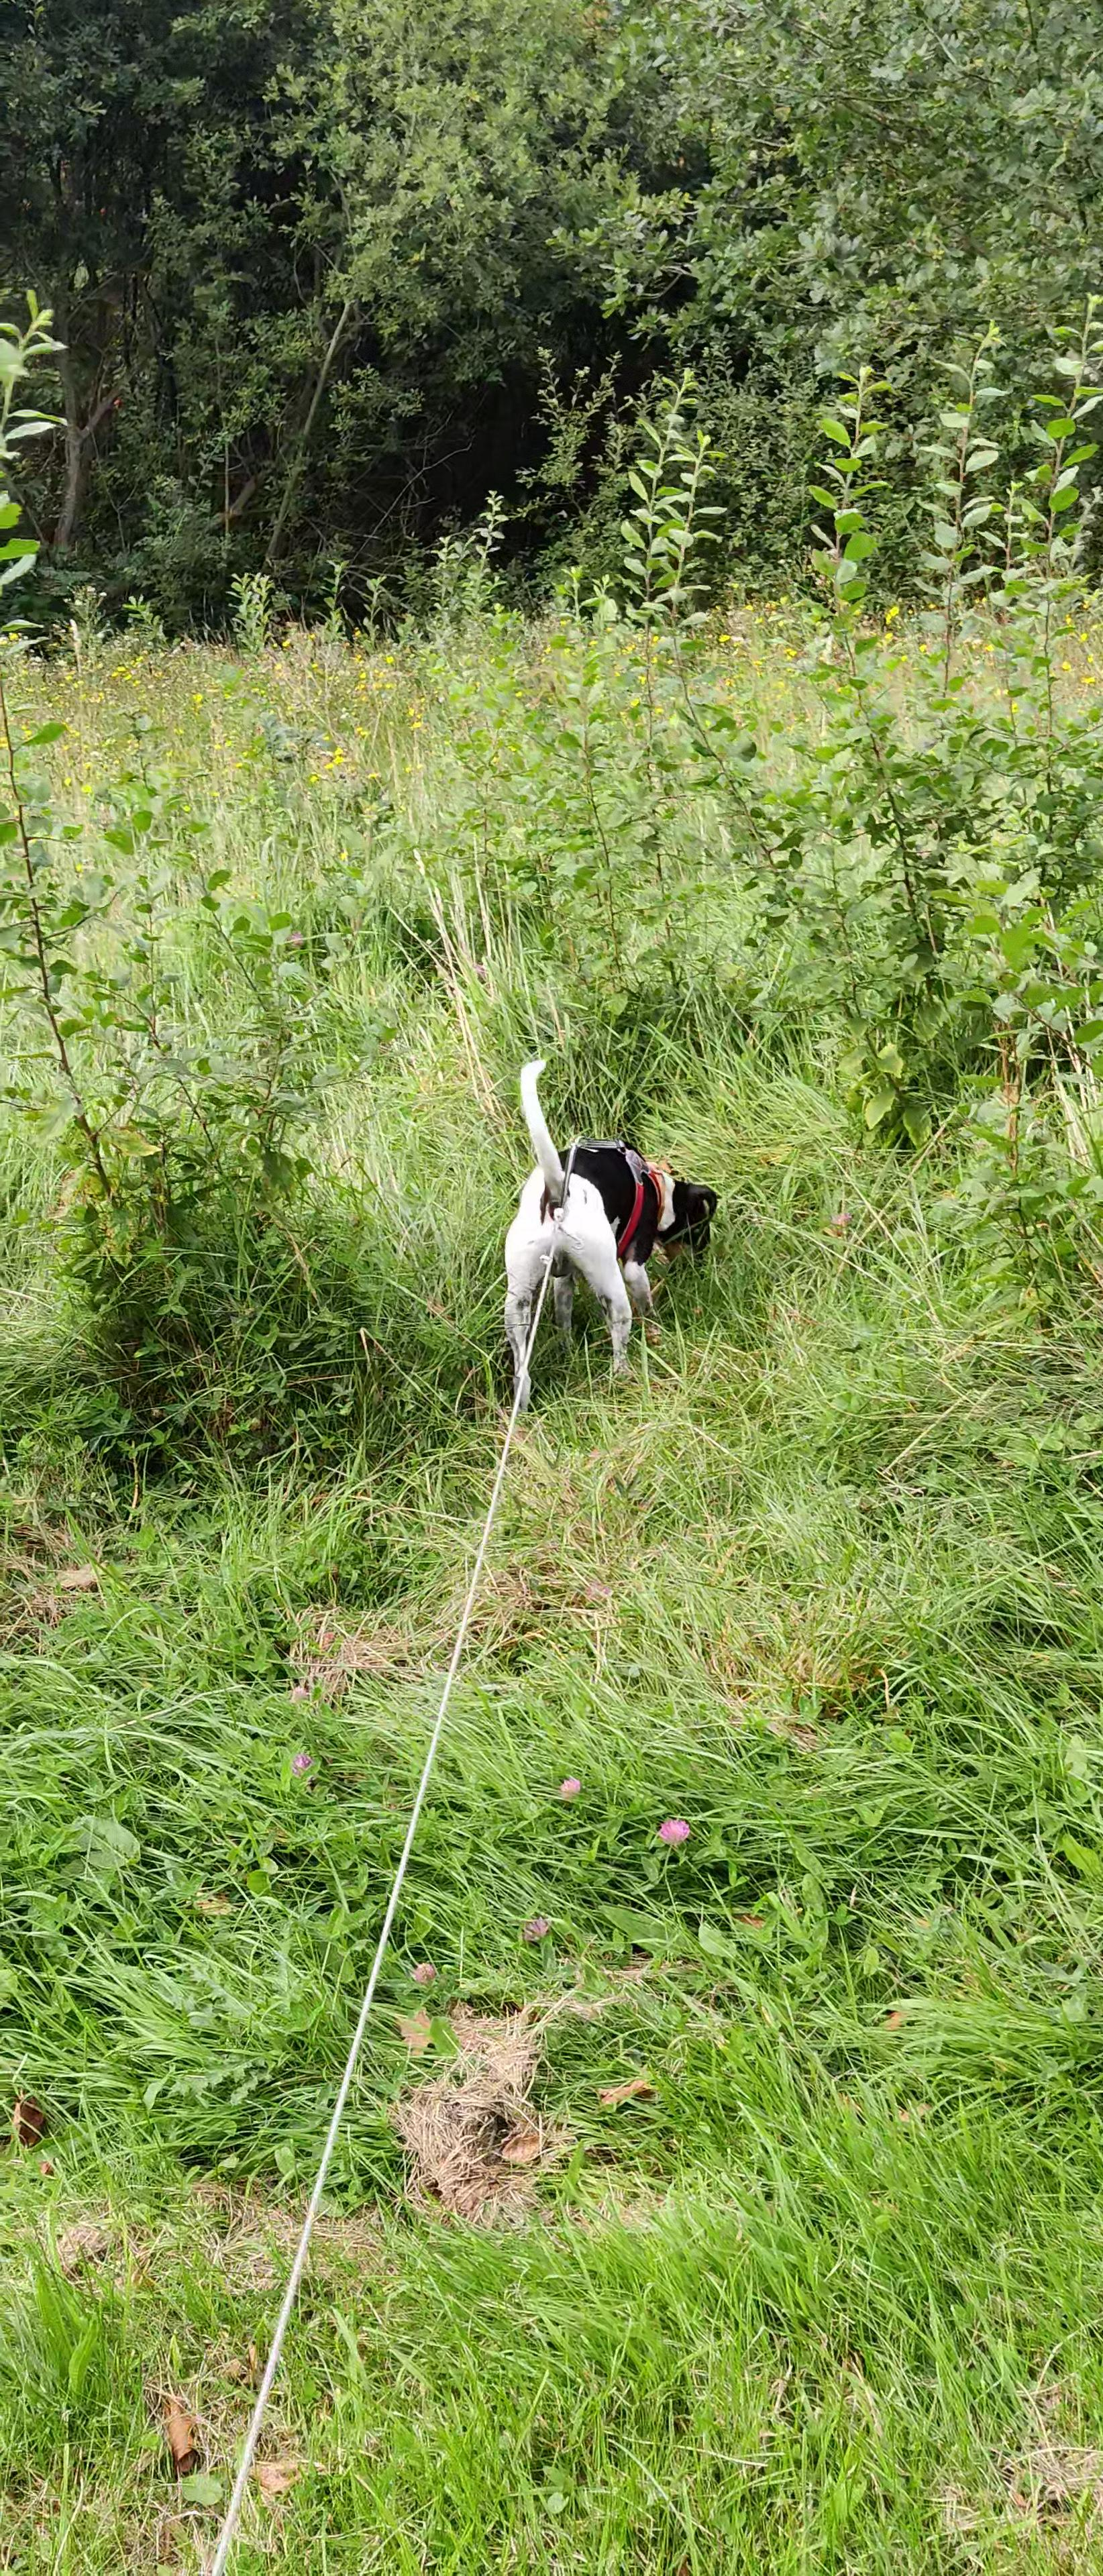Dog: (493, 1051, 722, 1416)
